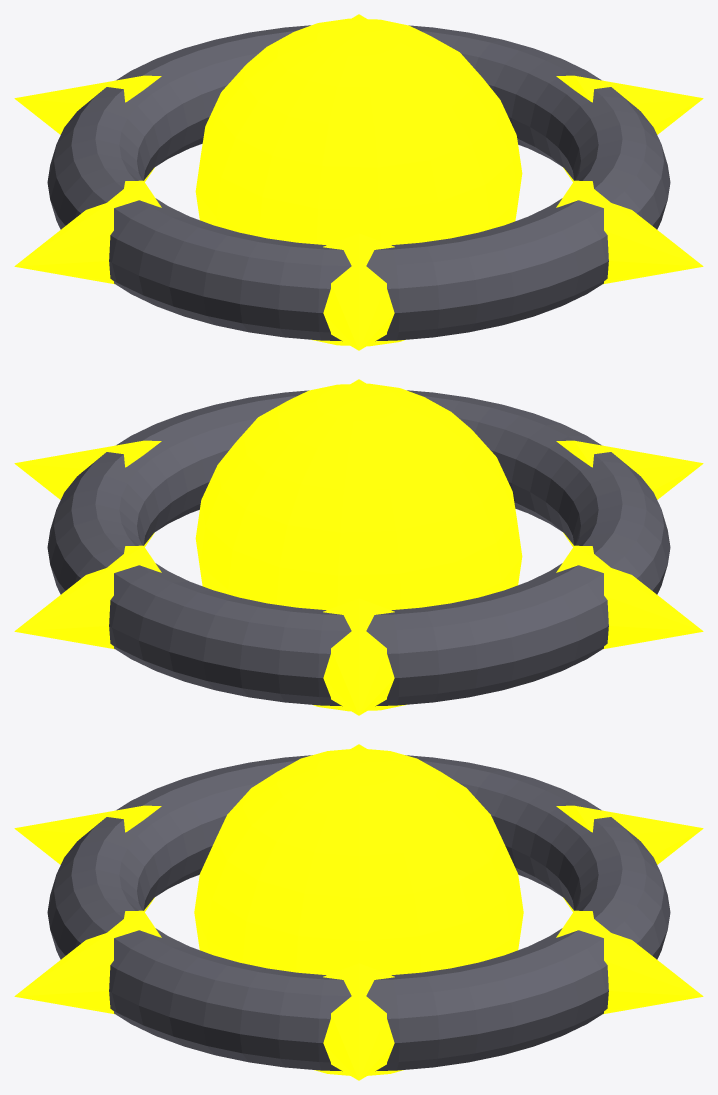
Rendered from item_sumo.glb.
3 renders of one model, top to bottom at view 1: azimuth 30°, elevation 25°; view 2: azimuth 150°, elevation 25°; view 3: azimuth 270°, elevation 25°, orthographic.
Visible parts, largest first — view 1: Torus, Sphere, Cone.004, Cone.003, Cone.005, Cone, Cone.002; view 2: Torus, Sphere, Cone.002, Cone.001, Cone.003, Cone, Cone.004; view 3: Torus, Sphere, Cone, Cone.001, Cone.005, Cone.002, Cone.004.
Boxes of the visible parts, x1,y1,x2,y2 form: Torus: (47,25,670,341); Sphere: (195,18,522,346); Cone.004: (323,233,394,350); Cone.003: (14,180,161,284); Cone.005: (556,180,703,284); Cone: (556,75,703,181); Cone.002: (14,75,161,181); Torus: (47,390,670,706); Sphere: (195,383,522,711); Cone.002: (323,598,394,715); Cone.001: (14,545,161,649); Cone.003: (556,545,703,649); Cone: (14,440,161,546); Cone.004: (556,440,703,546); Torus: (47,755,670,1071); Sphere: (194,748,523,1075); Cone: (323,963,394,1080); Cone.001: (556,910,703,1014); Cone.005: (14,910,161,1014); Cone.002: (556,805,703,911); Cone.004: (14,805,161,911).
Size of the model in its own units: 2.66 by 1.1 by 2.3.
